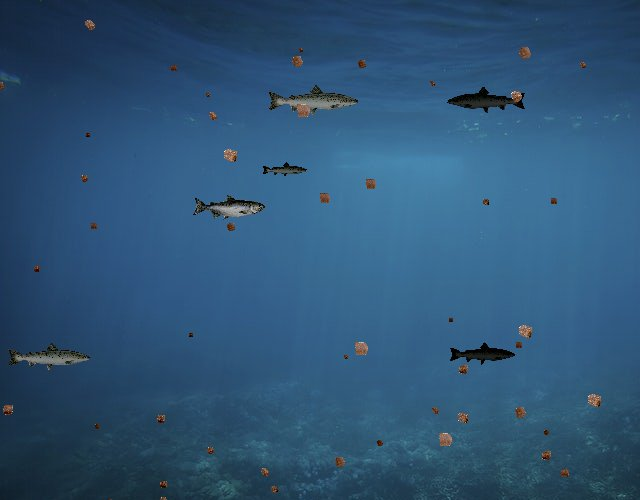Fish: (266, 84, 360, 118), (6, 341, 92, 372), (446, 86, 527, 115), (192, 195, 265, 221), (448, 341, 516, 366), (262, 162, 309, 179)
Pellet: (512, 40, 538, 66), (504, 84, 529, 109), (78, 14, 100, 36), (352, 55, 370, 73), (478, 195, 492, 209), (540, 426, 553, 439), (202, 90, 212, 100)
